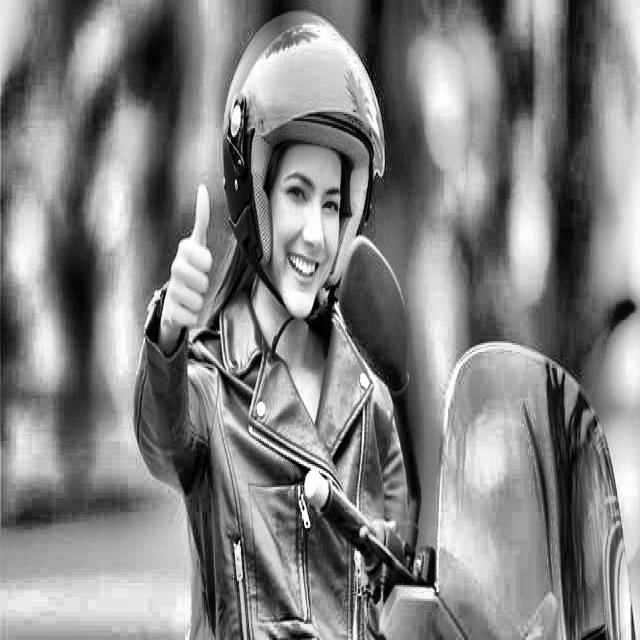Helmet: (228, 6, 382, 335)
